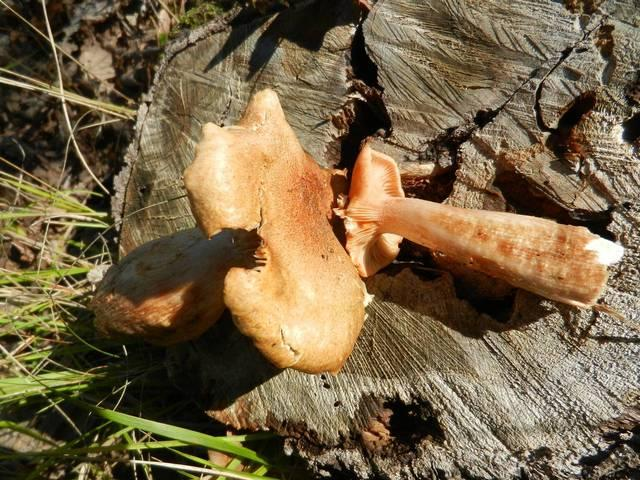Edible Mushroom: (180, 86, 373, 375), (333, 141, 624, 311)
